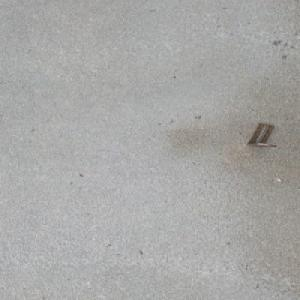MetalPart: (245, 122, 278, 148)
